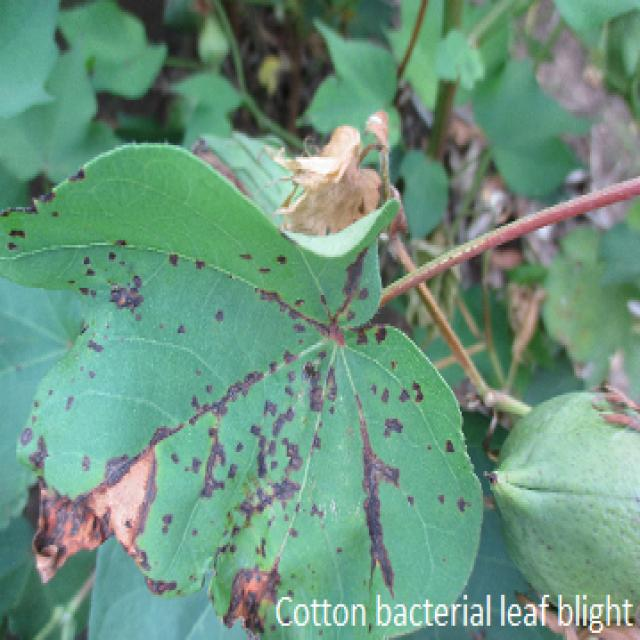Bacterial Blight: (102, 351, 346, 591)
